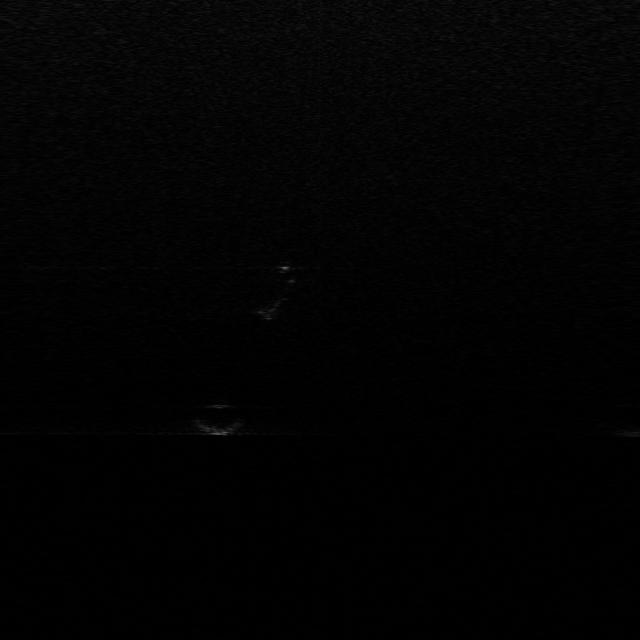ball: (190, 400, 246, 438)
tyre: (257, 256, 301, 322)
